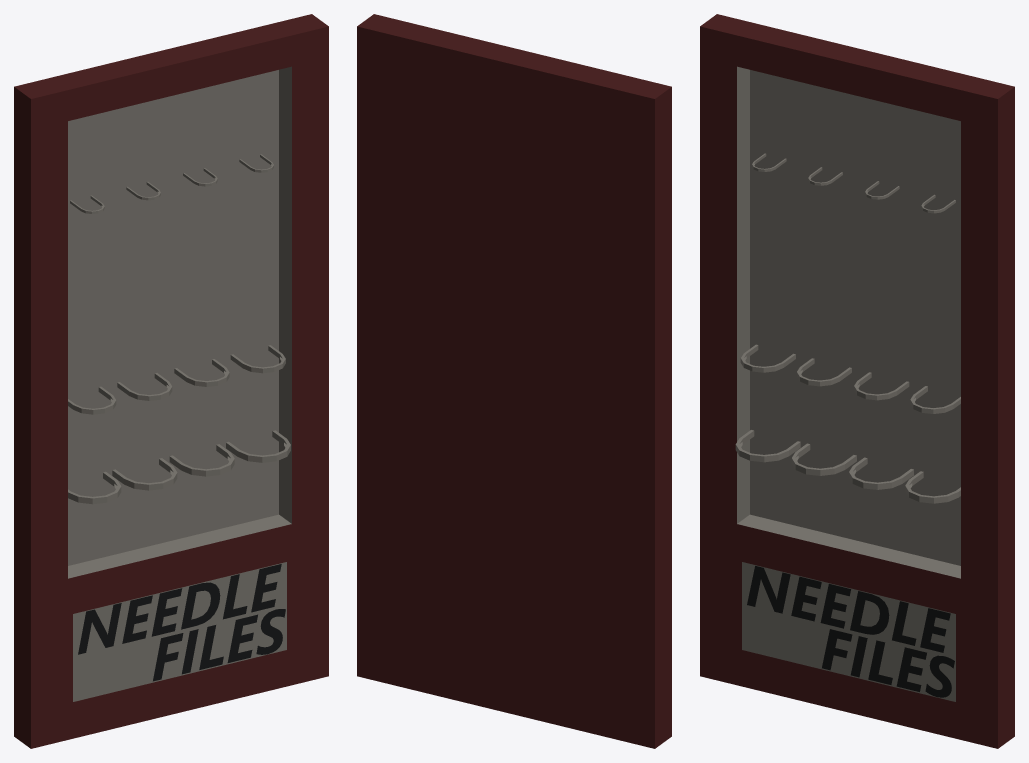
Rendered from SM_Needle_Files_Box.glb.
The picture shows the model from 3 angles, left to right: view 1: azimuth 30°, elevation 25°; view 2: azimuth 150°, elevation 25°; view 3: azimuth 330°, elevation 25°; orthographic projection.
Visible parts, largest first — view 1: SM_Needle_Files_Box; view 2: SM_Needle_Files_Box; view 3: SM_Needle_Files_Box.
Part boxes in pixels (x1=…): SM_Needle_Files_Box: x1=14, y1=14, x2=328, y2=748; SM_Needle_Files_Box: x1=357, y1=14, x2=671, y2=748; SM_Needle_Files_Box: x1=700, y1=14, x2=1014, y2=748.
Bounding box in the file's own units: 0.1482 × 0.3089 × 0.026.
1 material, 1 textured.
